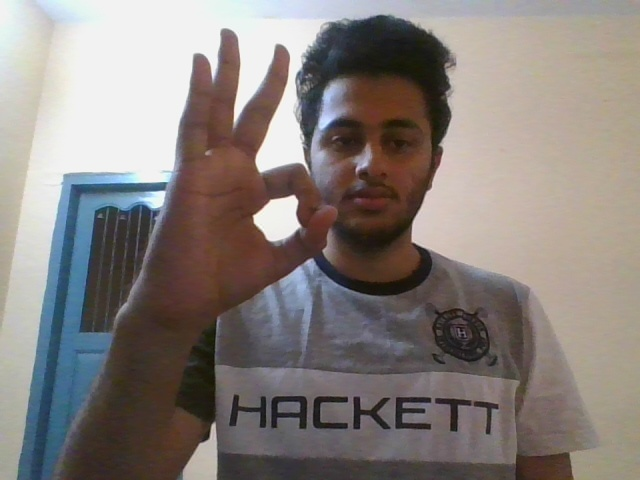Ok: (124, 27, 343, 320)
